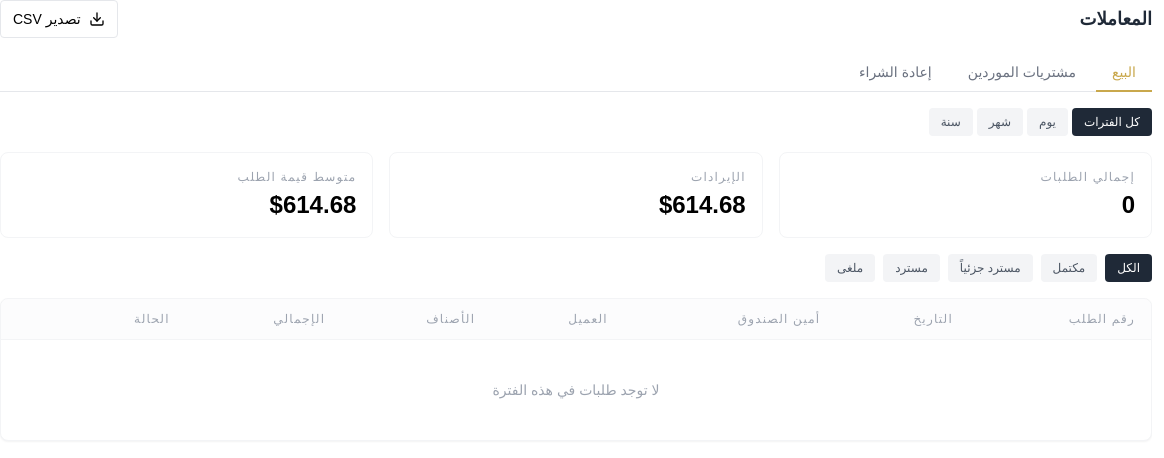
Test: orders list in Arabic (NEX-64) › translates each tab's empty state
Check: the text "لا توجد طلبات في هذه الفترة" is shown, box [1,340,1151,440]
Step 1. Click the button "مشتريات الموردين" → (1022, 73), box [952,54,1092,92]
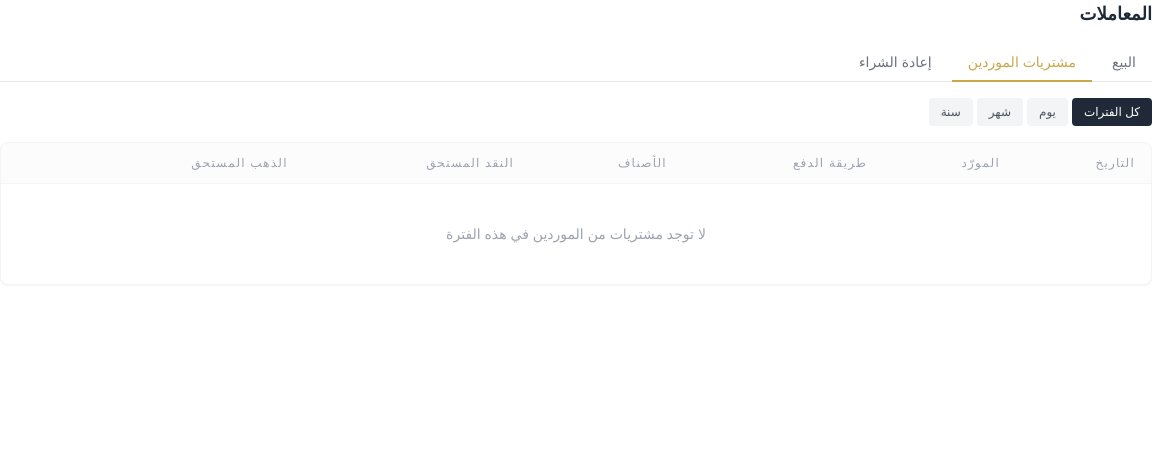
Check: the text "لا توجد مشتريات من الموردين في هذه الفترة" is shown, box [1,184,1151,284]
Step 2. Click the button "إعادة الشراء" → (895, 63), box [843,44,948,82]
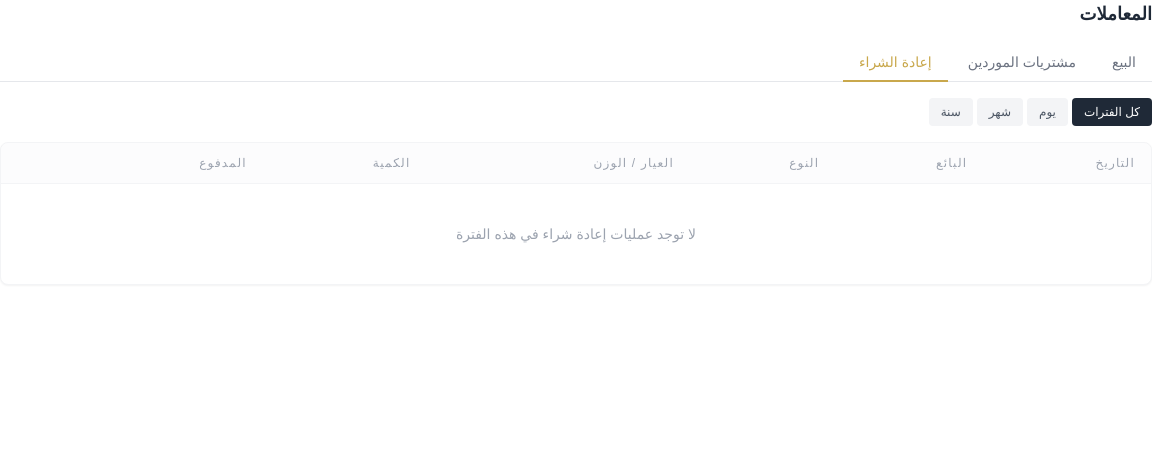
Check: the text "لا توجد عمليات إعادة شراء في هذه الفترة" is shown, box [1,184,1151,284]
